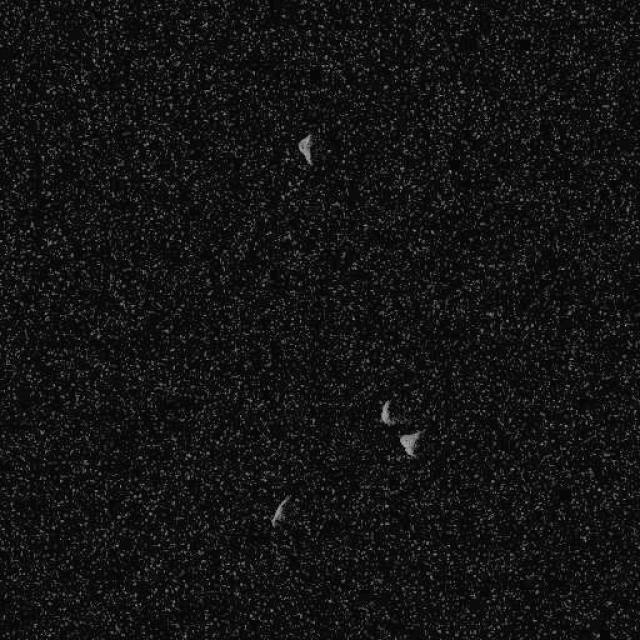D2: (378, 396, 427, 459), (269, 493, 291, 528), (398, 428, 422, 458), (296, 133, 314, 165), (379, 398, 395, 427)
